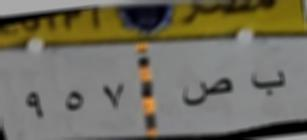5: (60, 86, 87, 116)
7: (98, 78, 134, 116)
9: (23, 83, 47, 126)
baa: (246, 62, 290, 103)
saad: (180, 71, 236, 112)
